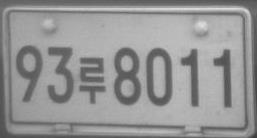0: (145, 46, 173, 107)
1: (211, 48, 241, 108), (178, 47, 206, 107)
3: (46, 45, 75, 105)
8: (112, 46, 142, 106)
9: (14, 44, 43, 103)
루: (77, 56, 106, 104)
